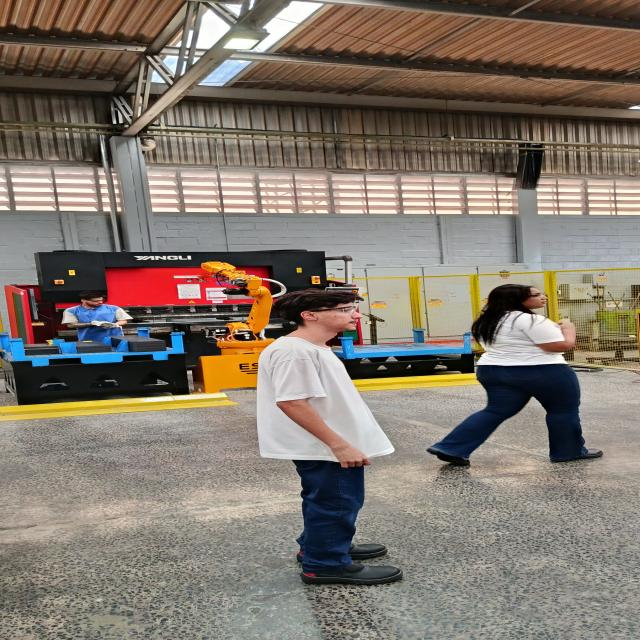oculos-epi: (311, 306, 358, 316), (531, 294, 547, 299), (89, 301, 100, 303)
